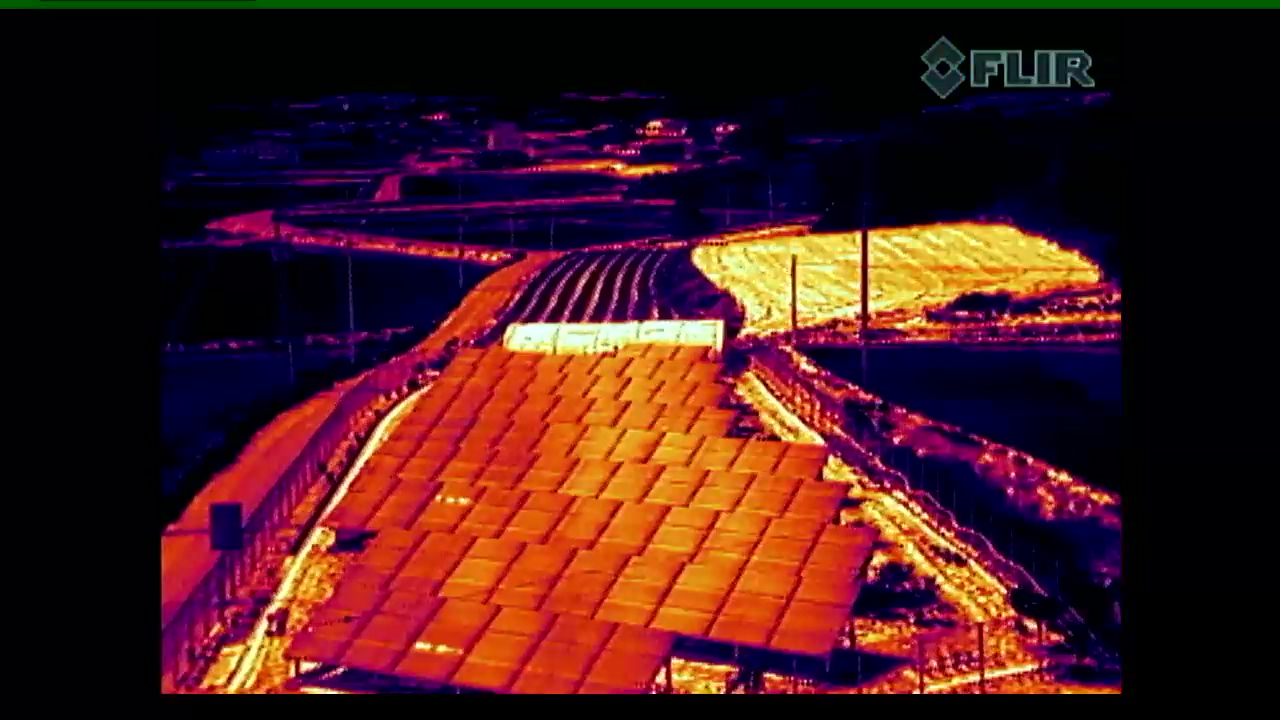hotspot: (396, 598, 499, 684), (411, 483, 481, 537)
